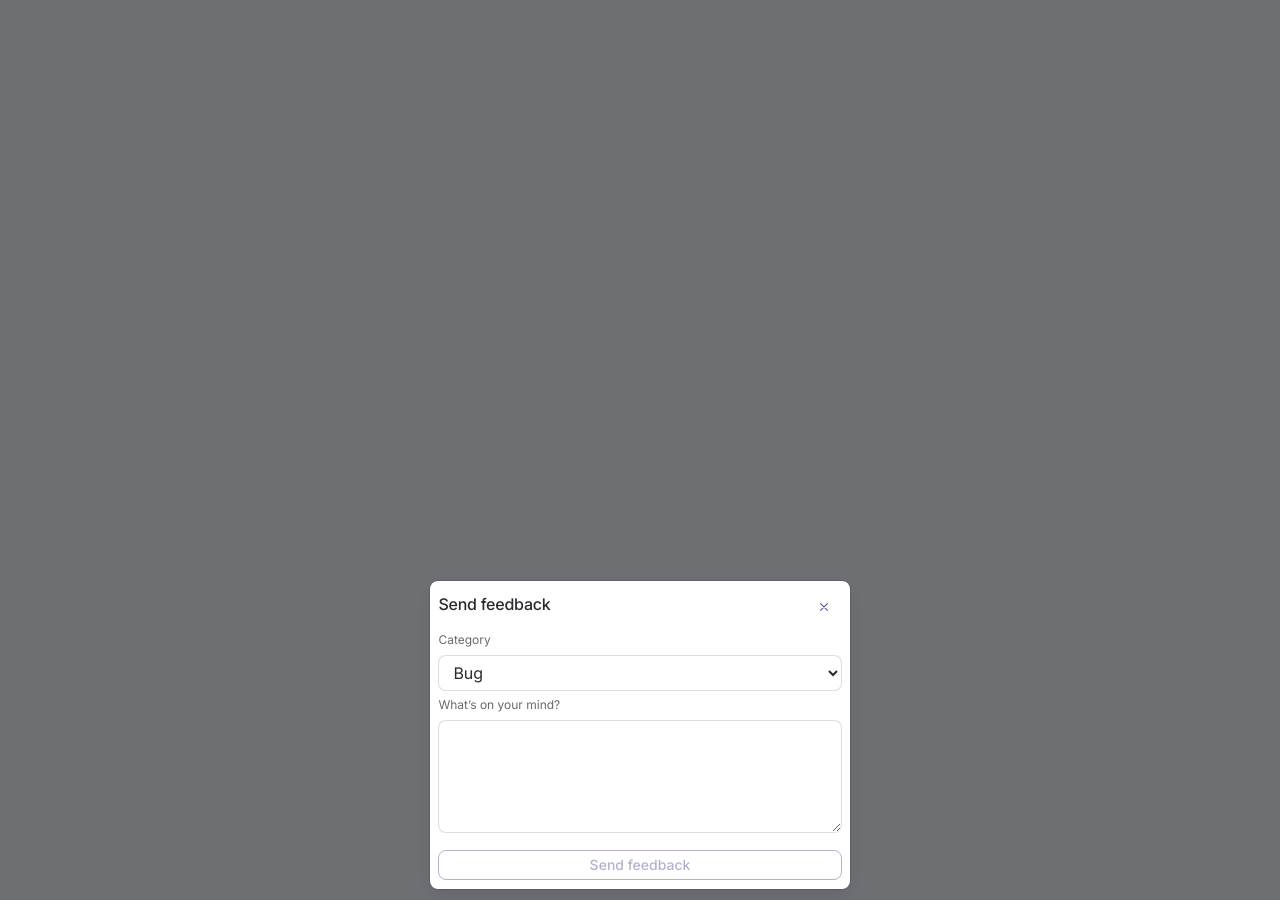
Scenario: FeedbackModal › shows a rate-limit-specific message on a 429 response
Type "it broke" into the text box with test id "feedback-description".
click(640, 776); type("it broke")  # box left=438, top=720, right=842, bottom=833
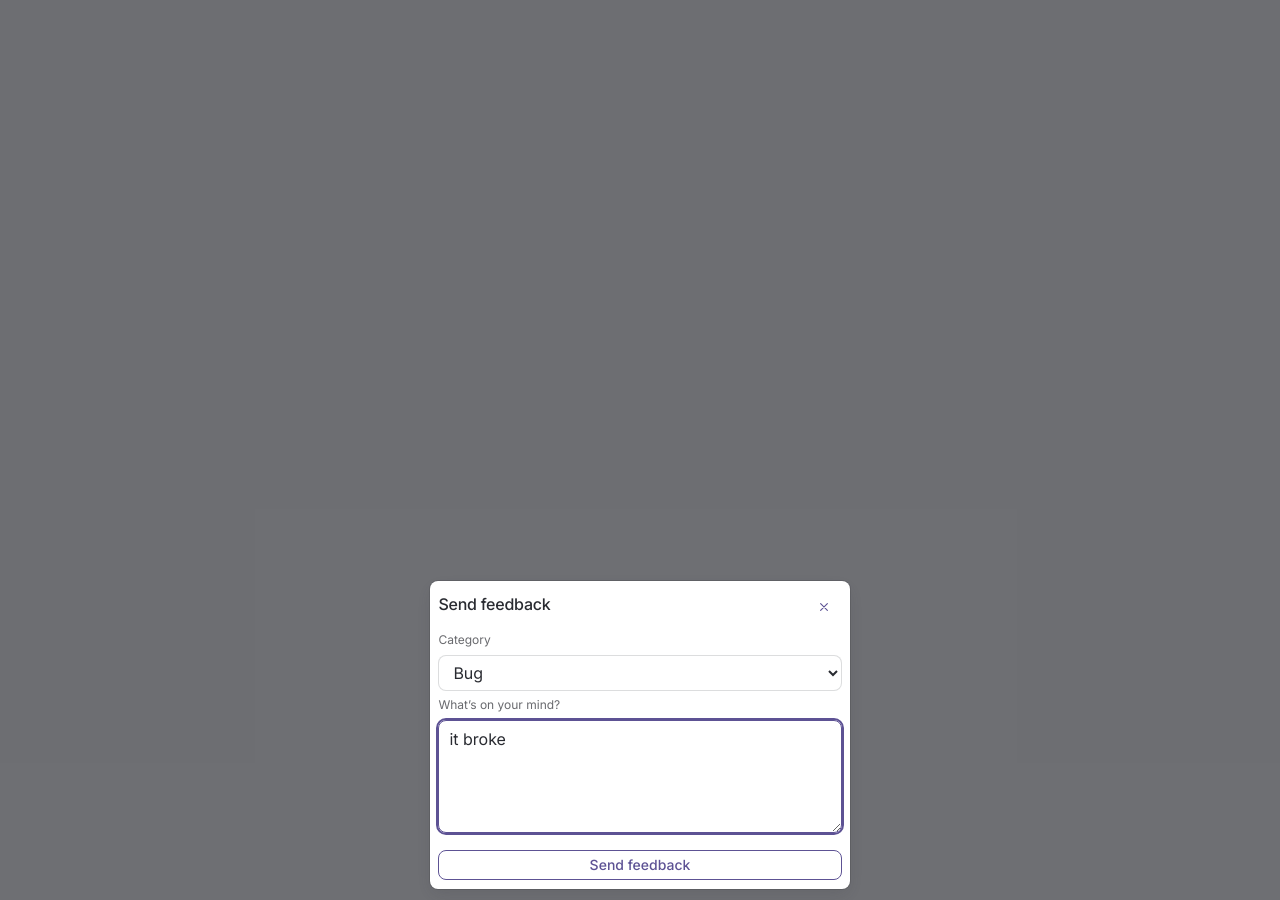
Click the button with test id "feedback-submit".
click(640, 865)  # box left=438, top=850, right=842, bottom=880
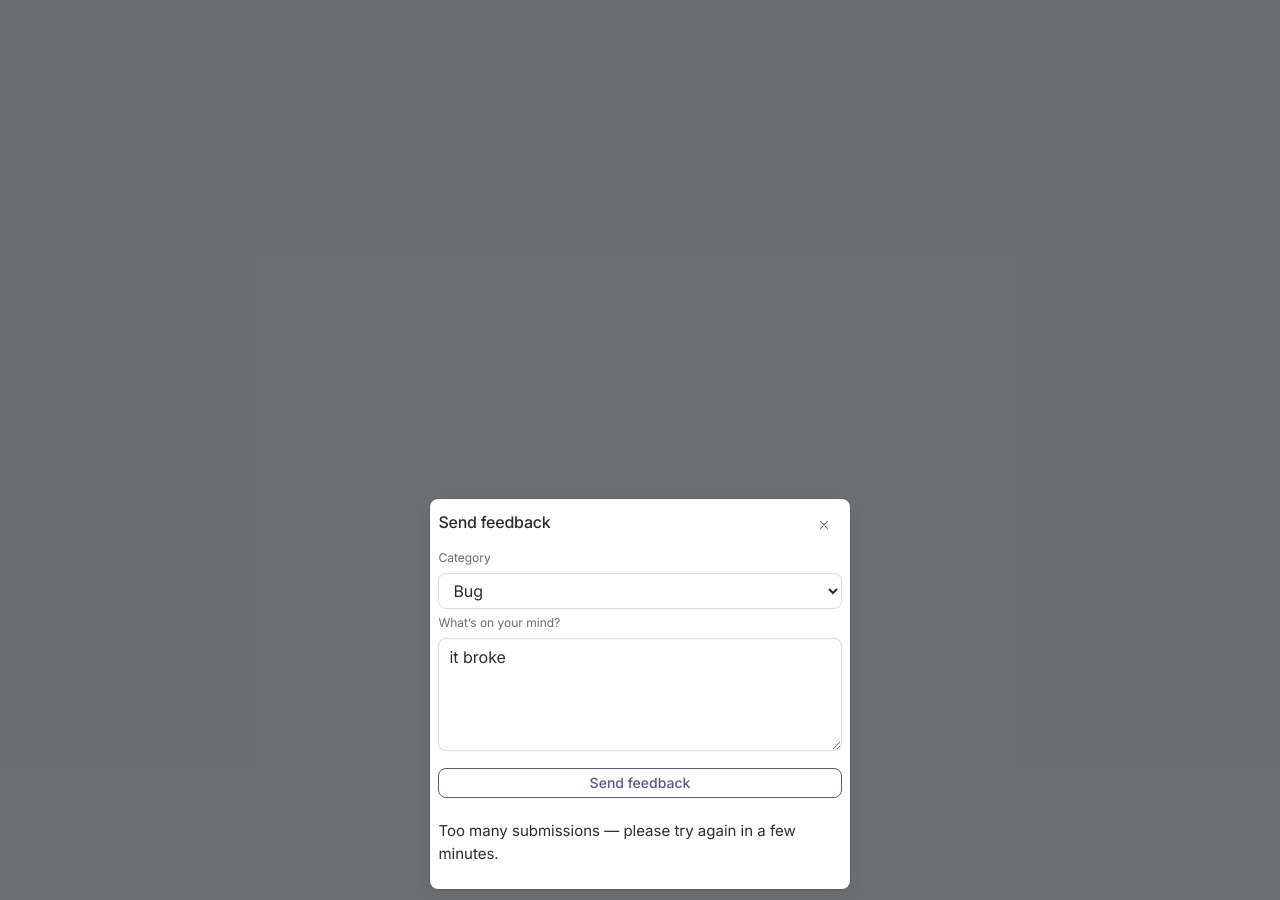
Expected: the message with test id "feedback-error" shows "Too many", left=438, top=821, right=796, bottom=863
